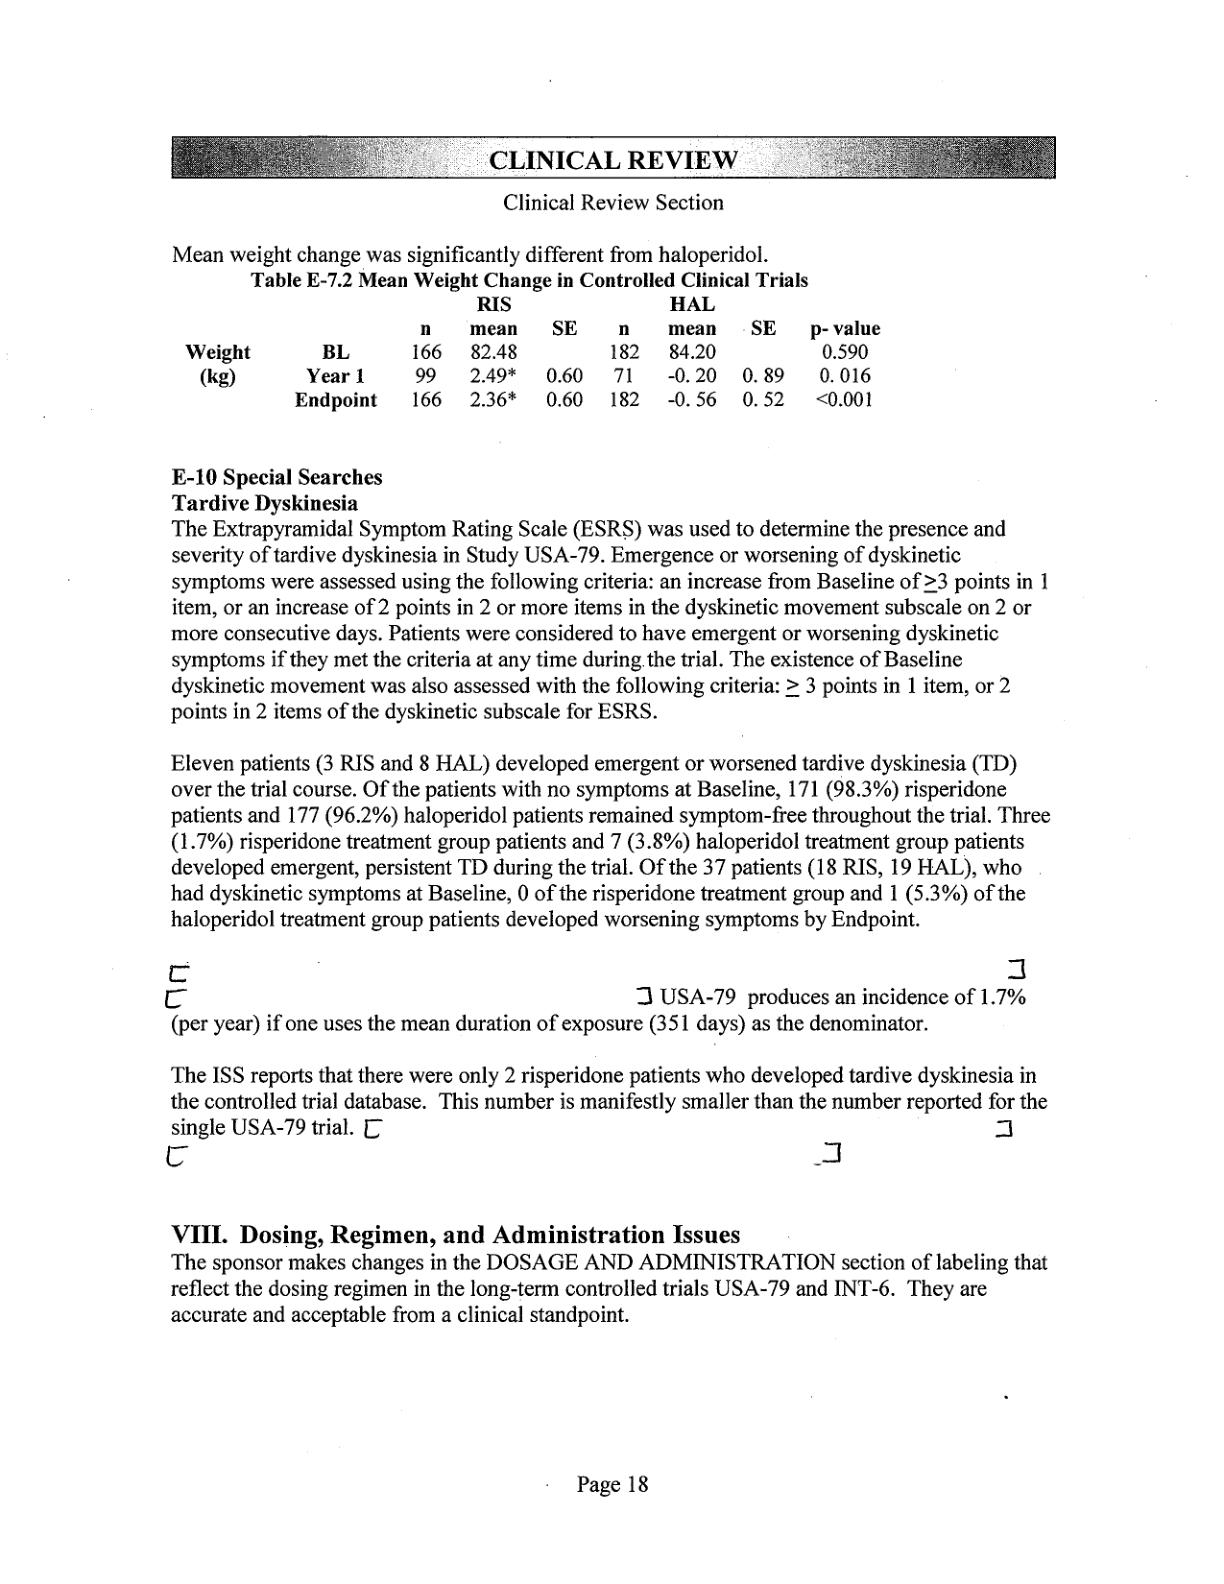nolines: (185, 291, 882, 409)
